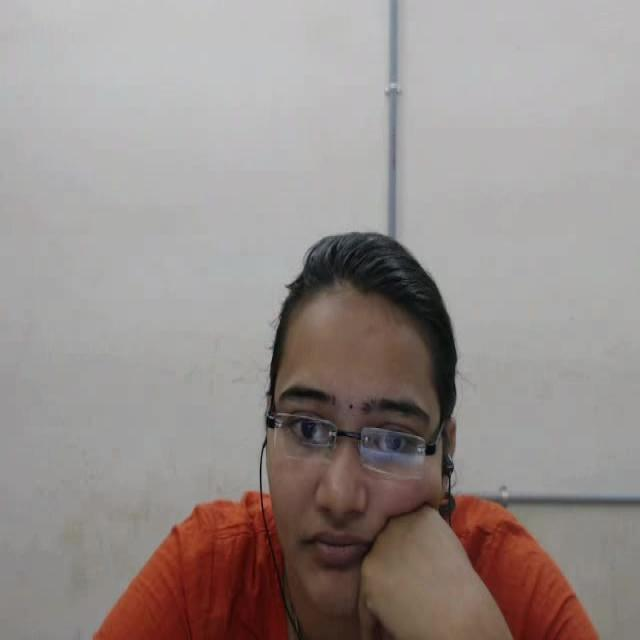Bored: (238, 193, 470, 640)
